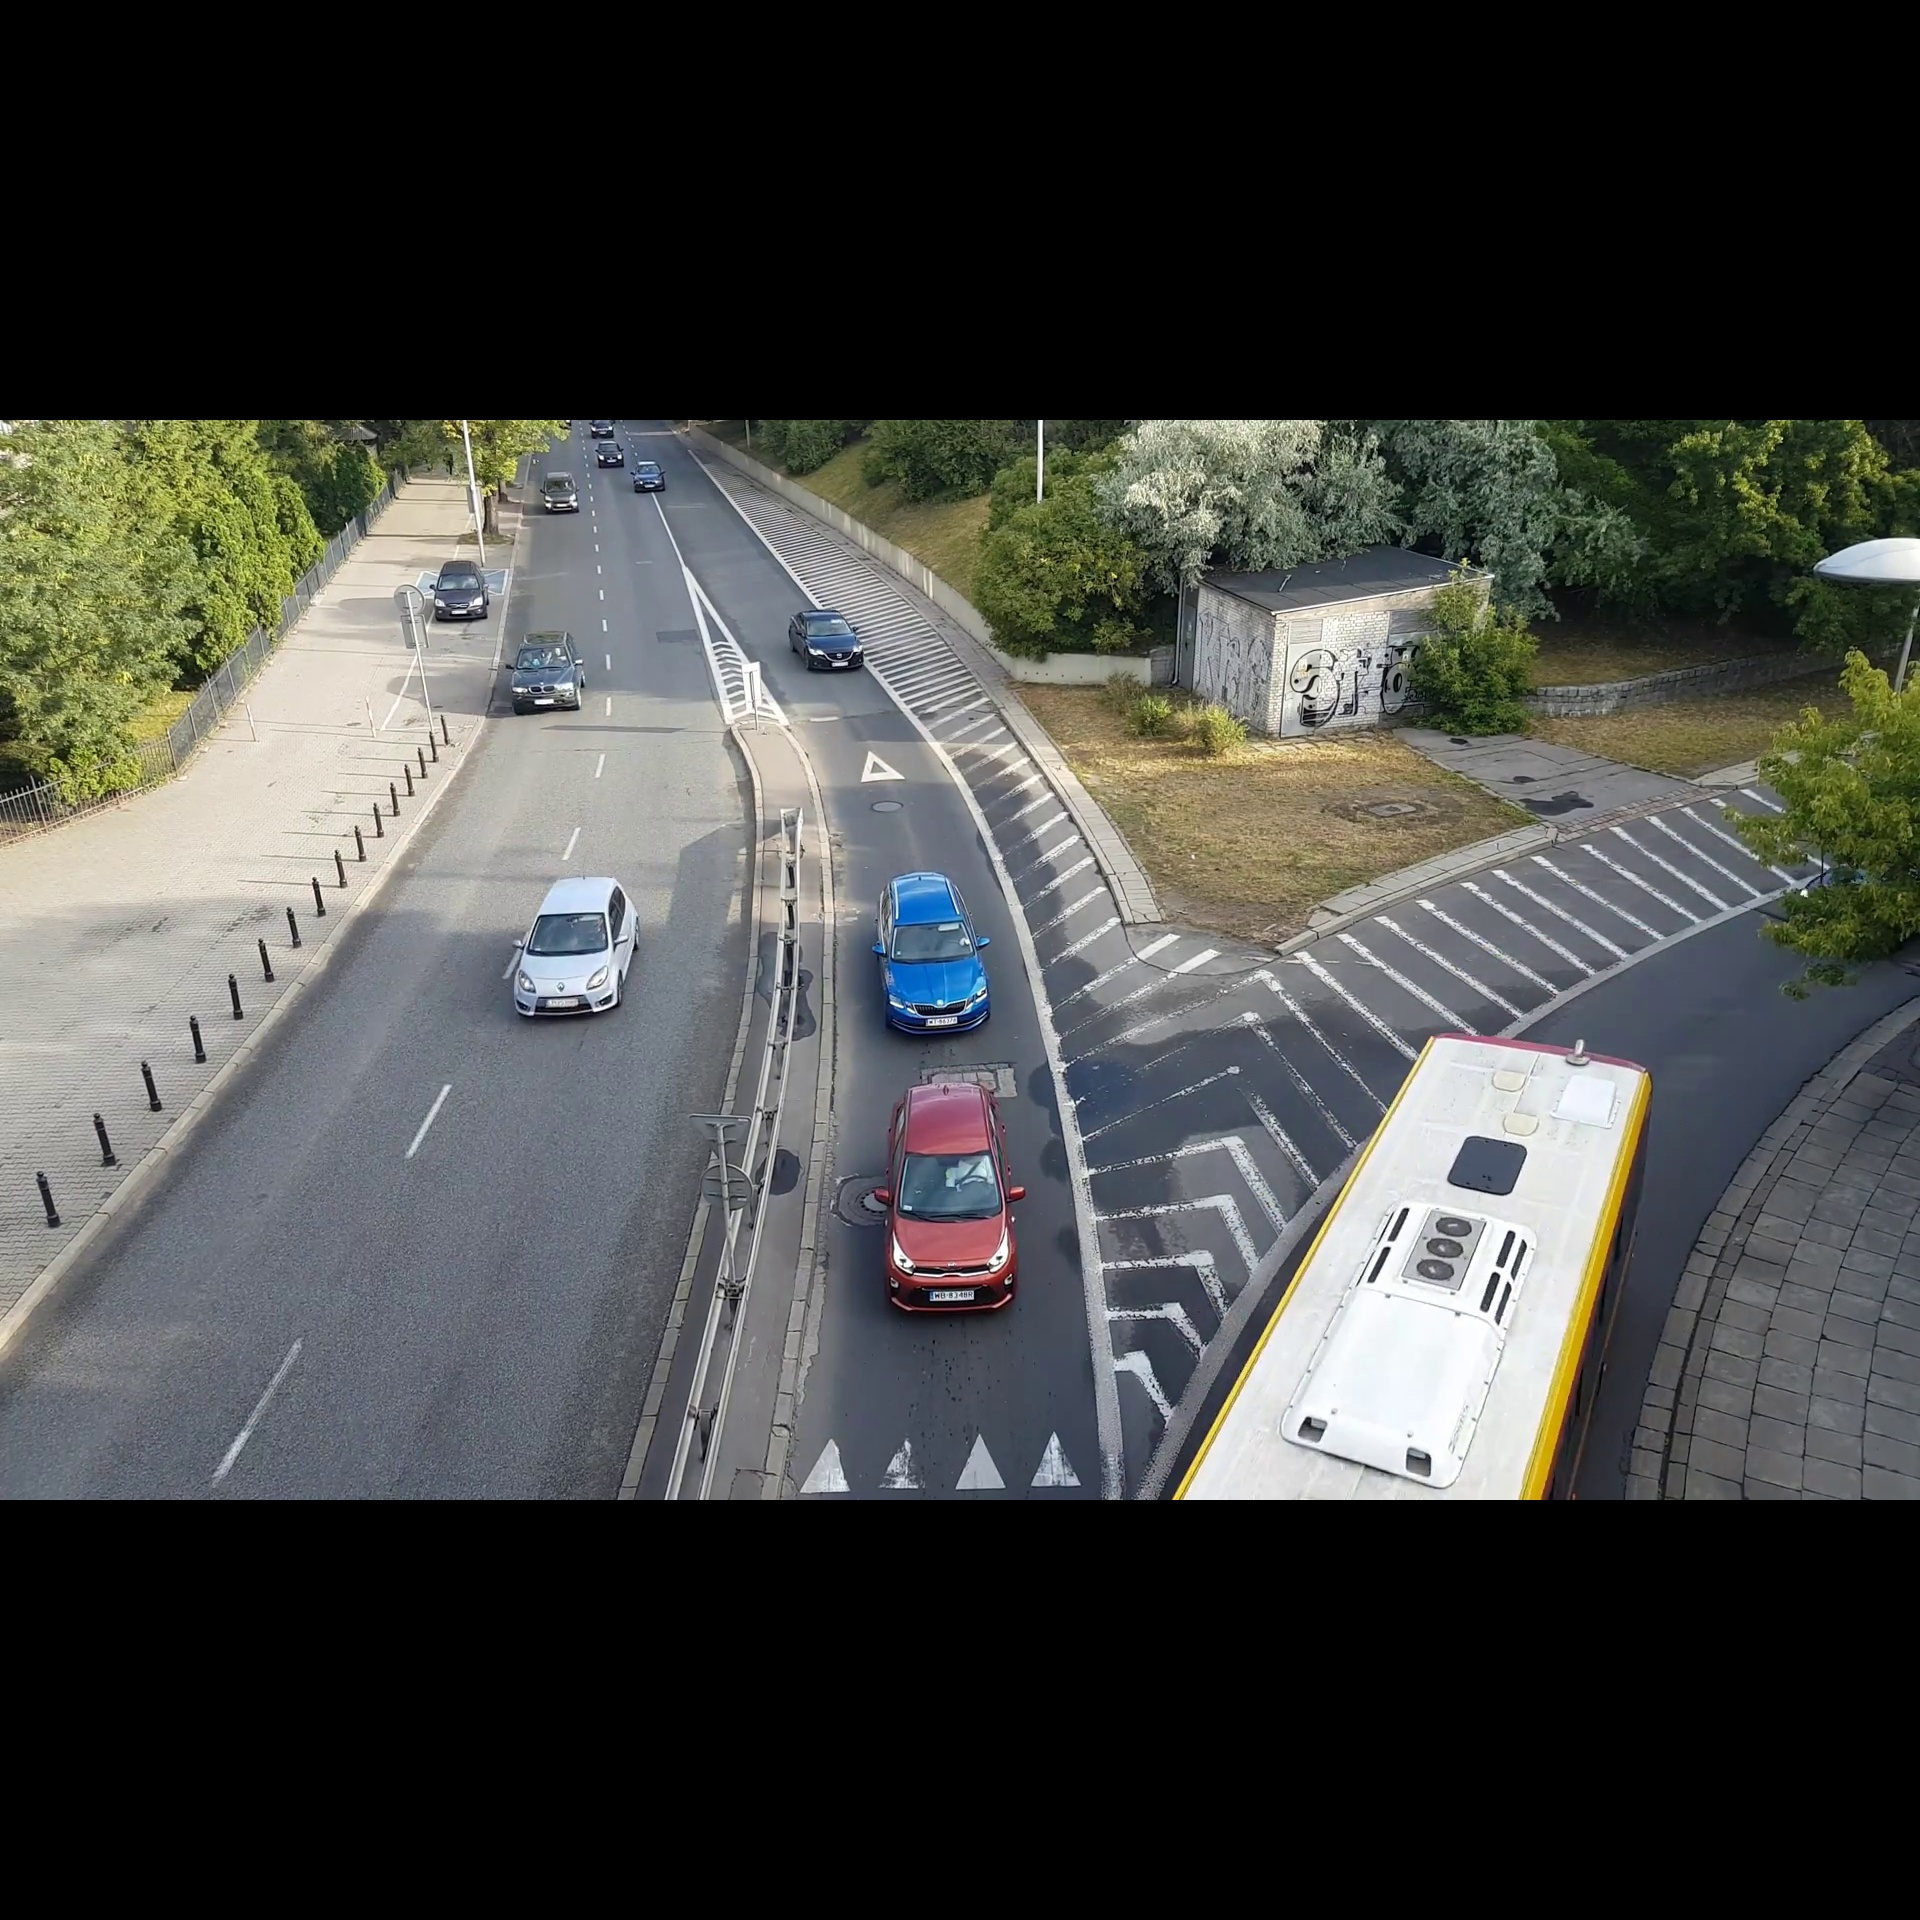vehicle: (1157, 1023, 1670, 1502), (874, 1073, 1034, 1326), (869, 863, 1000, 1044), (506, 872, 652, 1034), (503, 628, 587, 721), (784, 607, 869, 679), (427, 556, 492, 626), (538, 468, 584, 517), (631, 457, 668, 496), (594, 440, 626, 471), (589, 420, 615, 440)
